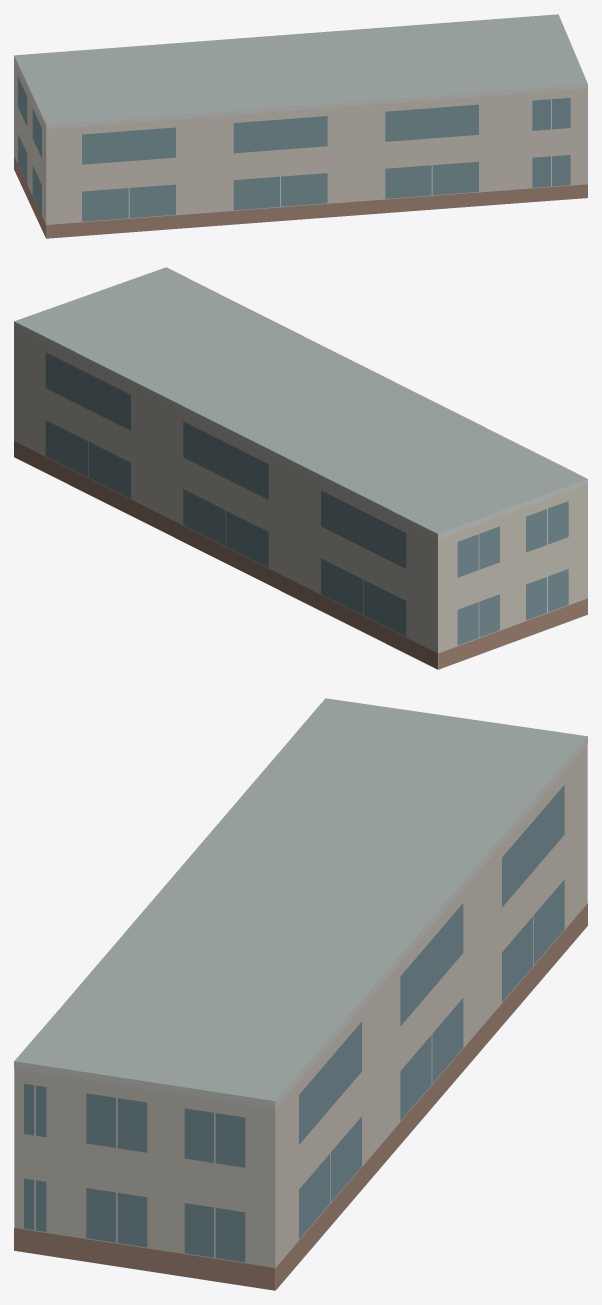
File: survey-upis-32815723.glb
3 views of the same model, one above another, from view 1: azimuth 30°, elevation 25°; view 2: azimuth 150°, elevation 25°; view 3: azimuth 270°, elevation 25° (orthographic). The views are drawn at different scales.
Visible parts, largest first — view 1: survey-upis-32815723.tmp; view 2: survey-upis-32815723.tmp; view 3: survey-upis-32815723.tmp.
Part boxes in pixels (left/top/right/bottom): survey-upis-32815723.tmp: left=14, top=14, right=587, bottom=238; survey-upis-32815723.tmp: left=14, top=267, right=587, bottom=669; survey-upis-32815723.tmp: left=14, top=698, right=587, bottom=1290.
Size of the model in its own units: 27.84 by 6.1 by 16.75.
